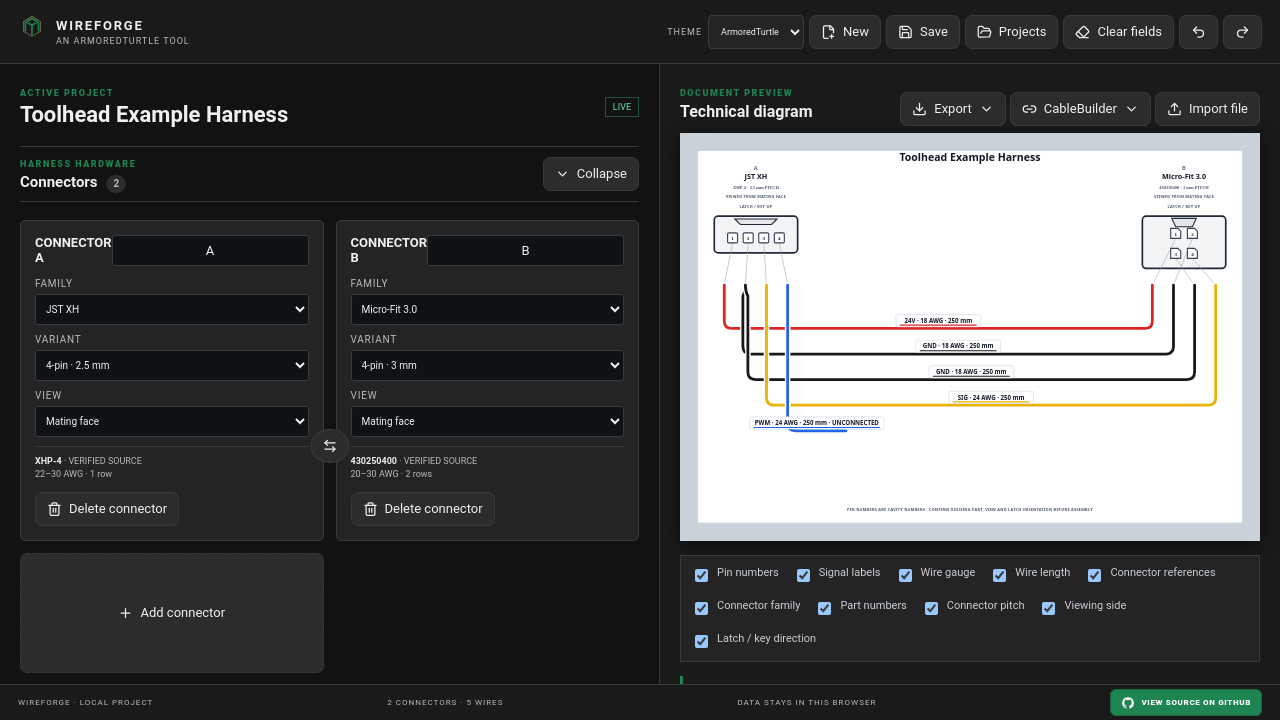
Test: editor flow › clears the editor to an undoable blank harness
Click the button "Clear fields" at (1119, 32), box left=1064, top=14, right=1174, bottom=48
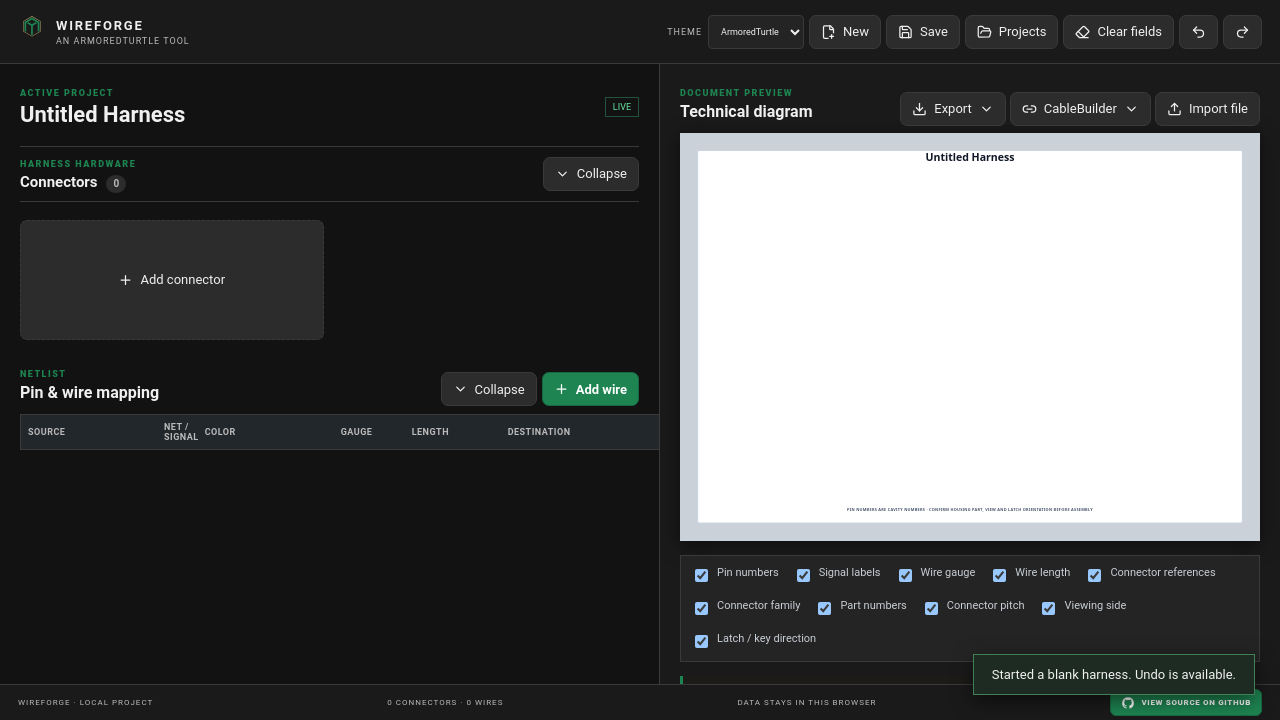
Expected: the field named "Project name" holds "Untitled Harness", left=20, top=99, right=420, bottom=130
Click the button "Add connector" at (172, 280), box left=20, top=220, right=324, bottom=340
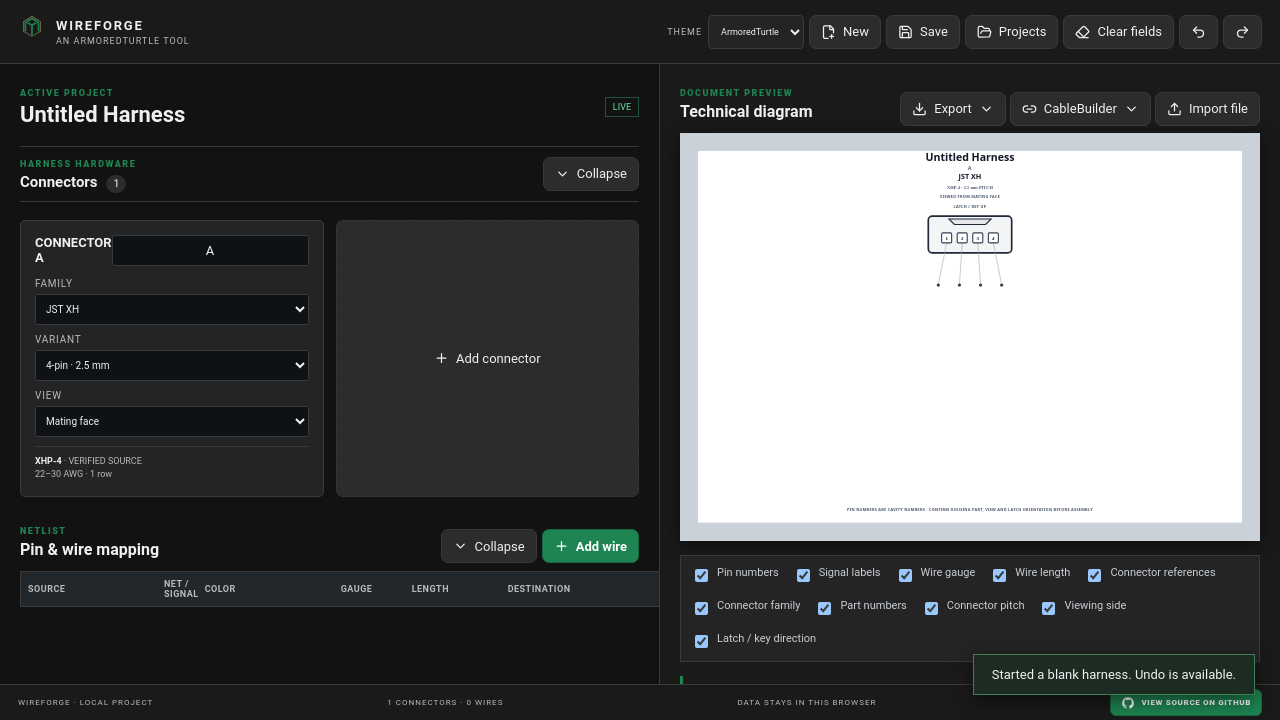
Expected: the field named "Connector A reference" is shown, left=112, top=234, right=308, bottom=266
Click the button named "Undo" at (1198, 32), box left=1179, top=14, right=1218, bottom=48
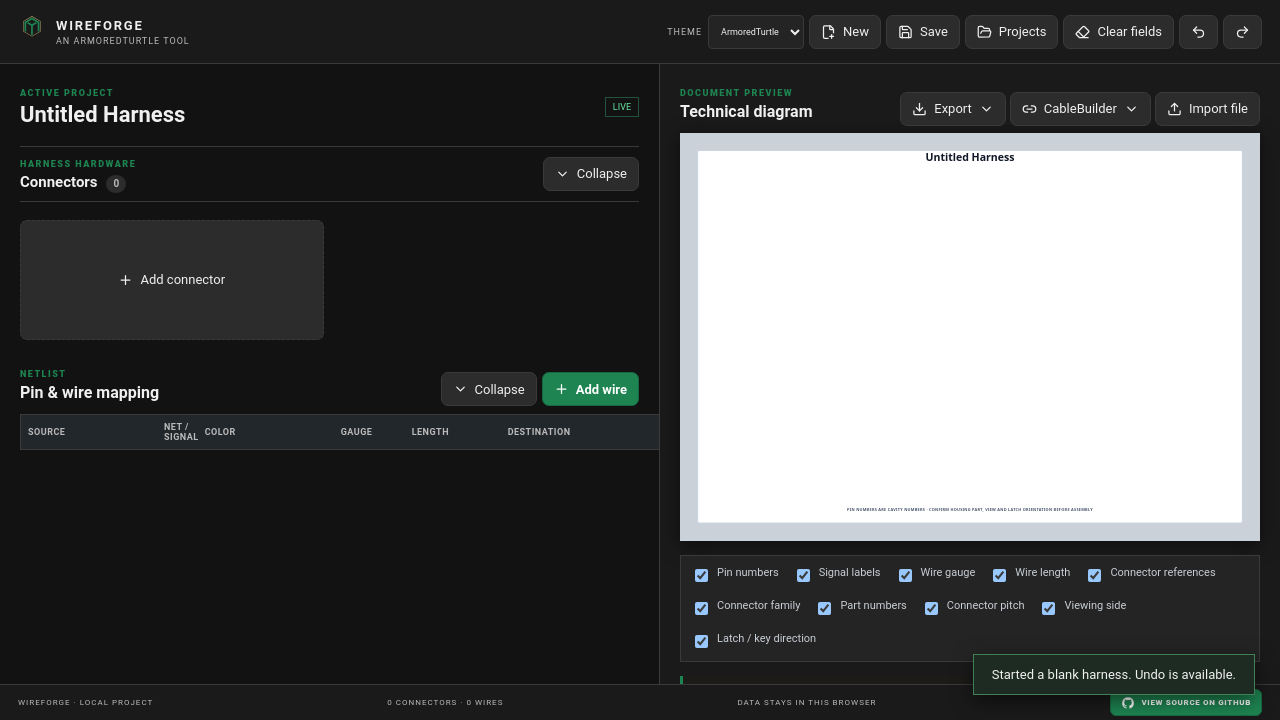
Click the button named "Undo" at (1198, 32), box left=1179, top=14, right=1218, bottom=48
(page scrolled)
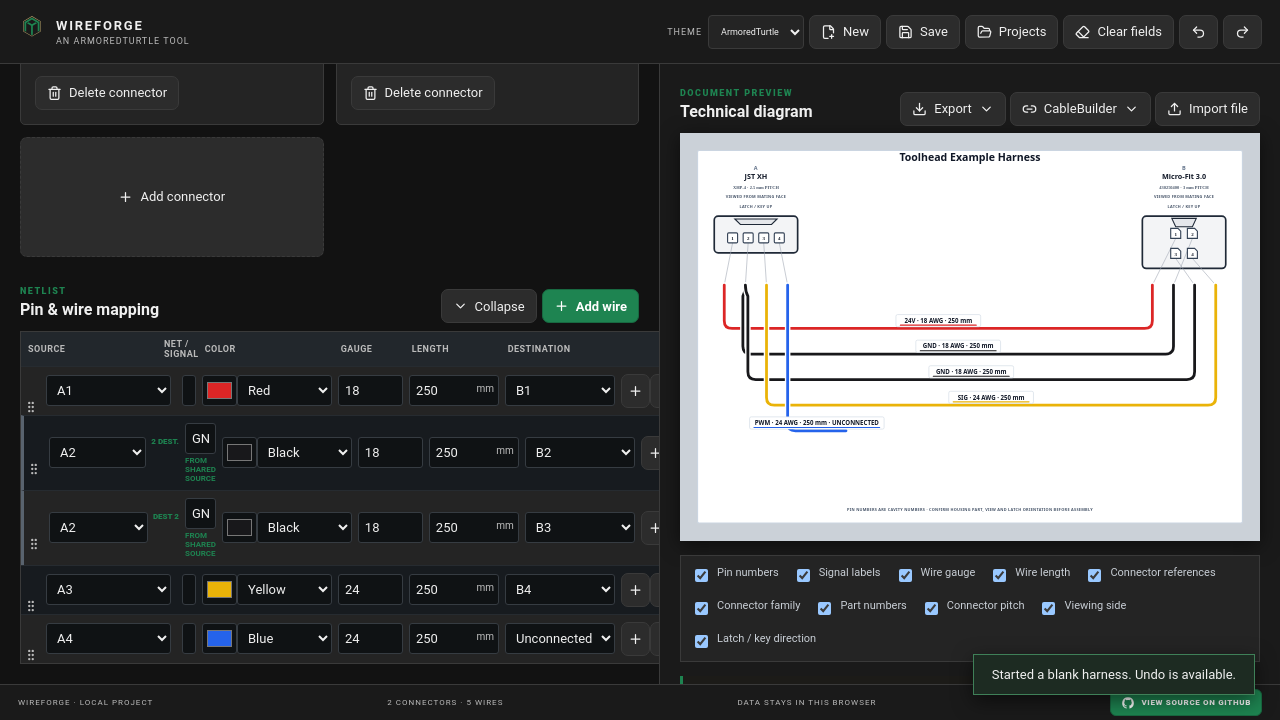
Expected: the field named "Wire 1 label" is shown, left=182, top=375, right=196, bottom=406
